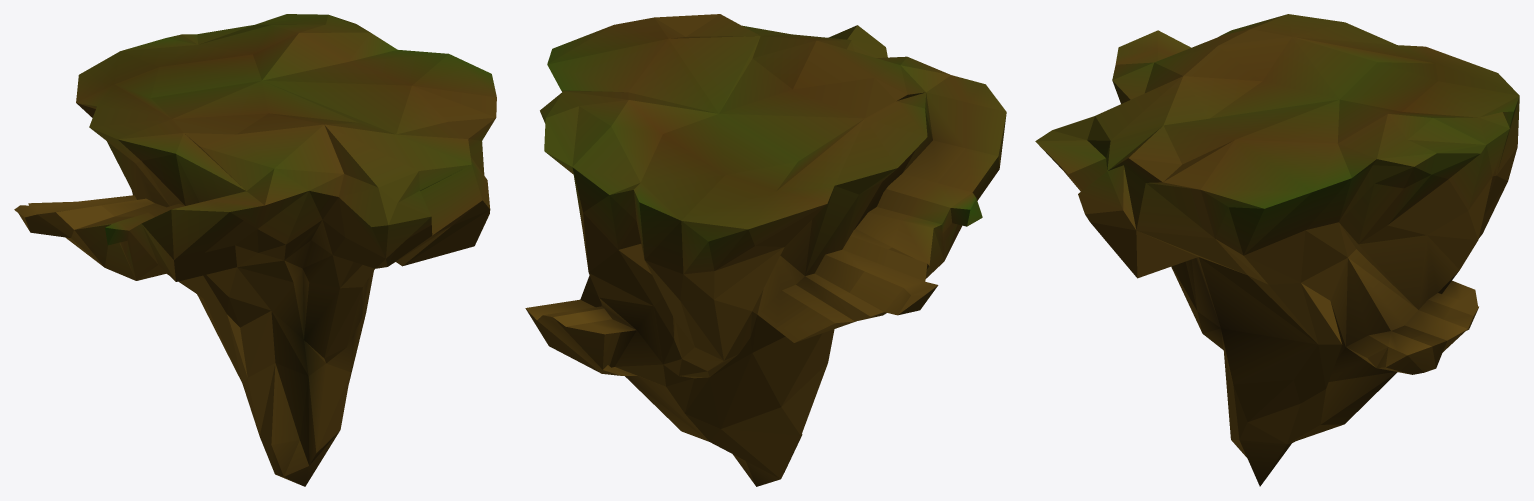
The model's file is ENV_Floating_Island_04.fbx.
The picture shows the model from 3 angles, left to right: view 1: azimuth 30°, elevation 25°; view 2: azimuth 150°, elevation 25°; view 3: azimuth 270°, elevation 25°; orthographic projection. The views are drawn at different scales.
Visible parts, largest first — view 1: ENV_Floating_Island_04; view 2: ENV_Floating_Island_04; view 3: ENV_Floating_Island_04.
Part boxes in pixels (box(x1,y1,x2,y2)): ENV_Floating_Island_04: box(14, 14, 496, 486); ENV_Floating_Island_04: box(525, 14, 1006, 486); ENV_Floating_Island_04: box(1035, 14, 1519, 486).
Bounding box in the file's own units: 5420 × 4934 × 5396.
